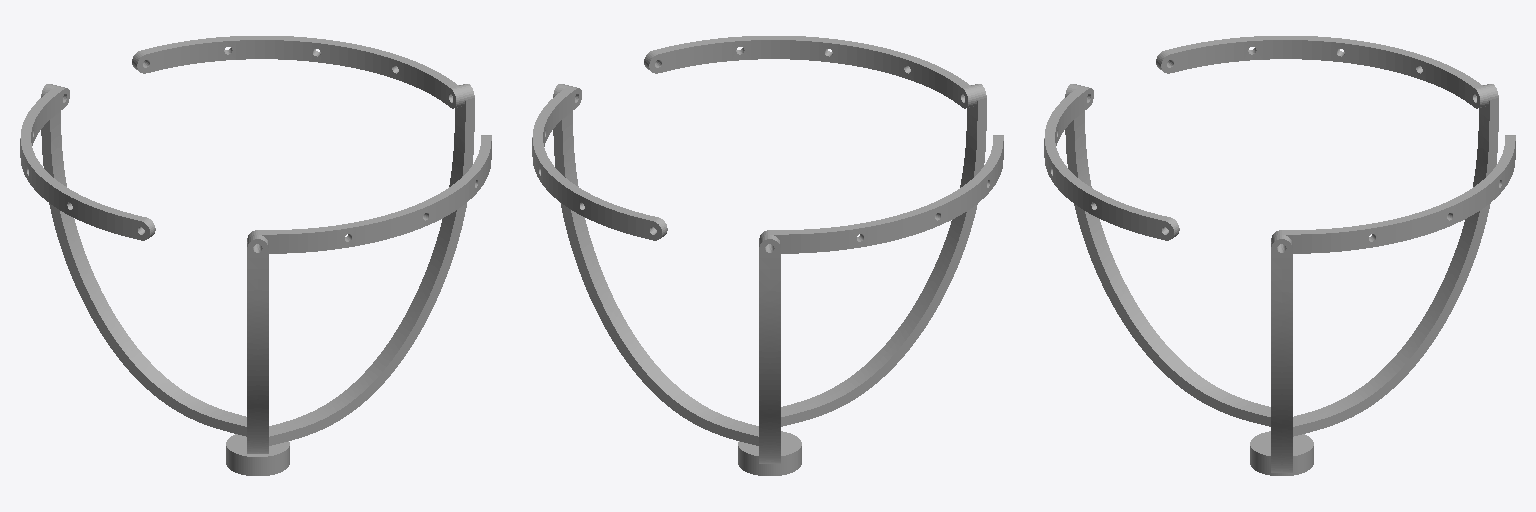
robot.urdf — parallel_manipulator:
<?xml version="1.0" ?>
<robot name="parallel_manipulator">

<mujoco>
 <compiler balanceinertia="true" discardvisual="false" meshdir="meshes" fusestatic="false"/>
</mujoco>

<material name="silver">
  <color rgba="0.700 0.700 0.700 1.000"/>
</material>

<link name="base_link">
  <inertial>
    <origin xyz="5.026061718855929e-18 0.0 -0.16000000000000003" rpy="0 0 0"/>
    <mass value="0.0554883802440297"/>
    <inertia ixx="3.583624557426321e-06" iyy="3.583624557426321e-06" izz="6.242442777453249e-06" ixy="0.0" iyz="2.091660178393795e-21" ixz="6.972200594645924e-22"/>
  </inertial>
  <visual>
    <origin xyz="0 0 0" rpy="0 0 0"/>
    <geometry>
      <mesh filename="meshes/base_link.stl" scale="0.001 0.001 0.001"/>
    </geometry>
    <material name="silver"/>
  </visual>
  <collision>
    <origin xyz="0 0 0" rpy="0 0 0"/>
    <geometry>
      <mesh filename="meshes/base_link.stl" scale="0.001 0.001 0.001"/>
    </geometry>
  </collision>
</link>

<link name="base11">
  <inertial>
    <origin xyz="0.07770643358085871 3.0322658174603484e-07 0.06024385622848319" rpy="0 0 0"/>
    <mass value="0.08674351614300567"/>
    <inertia ixx="0.00021167094510036208" iyy="0.0003141097173175293" izz="0.00010389479527303026" ixy="-9.152163667196695e-10" iyz="-2.4938792392235243e-09" ixz="-0.0001301534291036009"/>
  </inertial>
  <visual>
    <origin xyz="-0.0 -0.0 0.155" rpy="0 0 0"/>
    <geometry>
      <mesh filename="meshes/base11.stl" scale="0.001 0.001 0.001"/>
    </geometry>
    <material name="silver"/>
  </visual>
  <collision>
    <origin xyz="-0.0 -0.0 0.155" rpy="0 0 0"/>
    <geometry>
      <mesh filename="meshes/base11.stl" scale="0.001 0.001 0.001"/>
    </geometry>
  </collision>
</link>

<link name="base21">
  <inertial>
    <origin xyz="-0.03863393418963683 0.06691531907153667 0.05790924389468903" rpy="0 0 0"/>
    <mass value="0.08514522253227381"/>
    <inertia ixx="0.00026993000986479153" iyy="0.0002192885840932424" izz="0.00010271544678743677" ixy="4.385861472446938e-05" iyz="-0.00010739274184498333" ixz="6.200602713378632e-05"/>
  </inertial>
  <visual>
    <origin xyz="-0.0 -0.0 0.15" rpy="0 0 0"/>
    <geometry>
      <mesh filename="meshes/base21.stl" scale="0.001 0.001 0.001"/>
    </geometry>
    <material name="silver"/>
  </visual>
  <collision>
    <origin xyz="-0.0 -0.0 0.15" rpy="0 0 0"/>
    <geometry>
      <mesh filename="meshes/base21.stl" scale="0.001 0.001 0.001"/>
    </geometry>
  </collision>
</link>

<link name="base31">
  <inertial>
    <origin xyz="-0.03841038126169106 -0.06652936154357646 0.05558210977220143" rpy="0 0 0"/>
    <mass value="0.08354709335152774"/>
    <inertia ixx="0.0002523299000617631" iyy="0.00020227077725309148" izz="0.00010151774390270406" ixy="-4.335059504519329e-05" iyz="0.00010214693498486162" ixz="5.897184287090014e-05"/>
  </inertial>
  <visual>
    <origin xyz="-0.0 -0.0 0.145" rpy="0 0 0"/>
    <geometry>
      <mesh filename="meshes/base31.stl" scale="0.001 0.001 0.001"/>
    </geometry>
    <material name="silver"/>
  </visual>
  <collision>
    <origin xyz="-0.0 -0.0 0.145" rpy="0 0 0"/>
    <geometry>
      <mesh filename="meshes/base31.stl" scale="0.001 0.001 0.001"/>
    </geometry>
  </collision>
</link>

<link name="base_top1">
  <inertial>
    <origin xyz="-0.04131878844100827 0.0689319282604722 -4.945697337739286e-05" rpy="0 0 0"/>
    <mass value="0.06760520920400498"/>
    <inertia ixx="8.072621684546594e-05" iyy="8.115338367189903e-05" izz="0.00016072792841683608" ixy="7.233128143425066e-05" iyz="-2.129572243479971e-09" ixz="1.1992591402244904e-09"/>
  </inertial>
  <visual>
    <origin xyz="-0.11 4.2e-05 -4.9e-05" rpy="0 0 0"/>
    <geometry>
      <mesh filename="meshes/base_top1.stl" scale="0.001 0.001 0.001"/>
    </geometry>
    <material name="silver"/>
  </visual>
  <collision>
    <origin xyz="-0.11 4.2e-05 -4.9e-05" rpy="0 0 0"/>
    <geometry>
      <mesh filename="meshes/base_top1.stl" scale="0.001 0.001 0.001"/>
    </geometry>
  </collision>
</link>

<link name="base_top21">
  <inertial>
    <origin xyz="-0.03903703371795239 -0.0702492901574557 -4.945697337739699e-05" rpy="0 0 0"/>
    <mass value="0.06760520920400423"/>
    <inertia ixx="0.0001436873191756333" iyy="1.819228134173007e-05" izz="0.00016072792841683467" ixy="-3.598067205545254e-05" iyz="2.10337500289663e-09" ixz="1.2446340919535983e-09"/>
  </inertial>
  <visual>
    <origin xyz="0.054964 -0.095284 -4.9e-05" rpy="0 0 0"/>
    <geometry>
      <mesh filename="meshes/base_top21.stl" scale="0.001 0.001 0.001"/>
    </geometry>
    <material name="silver"/>
  </visual>
  <collision>
    <origin xyz="0.054964 -0.095284 -4.9e-05" rpy="0 0 0"/>
    <geometry>
      <mesh filename="meshes/base_top21.stl" scale="0.001 0.001 0.001"/>
    </geometry>
  </collision>
</link>

<link name="base_top31">
  <inertial>
    <origin xyz="0.08035582215896059 0.001317361896983657 -4.9456973377392864e-05" rpy="0 0 0"/>
    <mass value="0.0676052092040043"/>
    <inertia ixx="1.8405864754947538e-05" iyy="0.00014347373576241605" izz="0.0001607279284168349" ixy="-3.63506093787976e-05" iyz="2.6197240595179076e-11" ixz="-2.443893232161633e-09"/>
  </inertial>
  <visual>
    <origin xyz="0.055036 0.095242 -4.9e-05" rpy="0 0 0"/>
    <geometry>
      <mesh filename="meshes/base_top31.stl" scale="0.001 0.001 0.001"/>
    </geometry>
    <material name="silver"/>
  </visual>
  <collision>
    <origin xyz="0.055036 0.095242 -4.9e-05" rpy="0 0 0"/>
    <geometry>
      <mesh filename="meshes/base_top31.stl" scale="0.001 0.001 0.001"/>
    </geometry>
  </collision>
</link>

<joint name="Rigid_26" type="fixed">
  <origin xyz="0.0 0.0 -0.155" rpy="0 0 0"/>
  <parent link="base_link"/>
  <child link="base11"/>
</joint>

<joint name="Revolute_27" type="continuous">
  <origin xyz="0.0 0.0 0.005" rpy="0 0 0"/>
  <parent link="base11"/>
  <child link="base21"/>
  <axis xyz="0.0 0.0 -1.0"/>
</joint>
<transmission name="Revolute_27_tran">
  <type>transmission_interface/SimpleTransmission</type>
  <joint name="Revolute_27">
    <hardwareInterface>PositionJointInterface</hardwareInterface>
  </joint>
  <actuator name="Revolute_27_actr">
    <hardwareInterface>PositionJointInterface</hardwareInterface>
    <mechanicalReduction>1</mechanicalReduction>
  </actuator>
</transmission>

<joint name="Revolute_28" type="continuous">
  <origin xyz="0.0 0.0 0.005" rpy="0 0 0"/>
  <parent link="base21"/>
  <child link="base31"/>
  <axis xyz="0.0 0.0 -1.0"/>
</joint>
<transmission name="Revolute_28_tran">
  <type>transmission_interface/SimpleTransmission</type>
  <joint name="Revolute_28">
    <hardwareInterface>PositionJointInterface</hardwareInterface>
  </joint>
  <actuator name="Revolute_28_actr">
    <hardwareInterface>PositionJointInterface</hardwareInterface>
    <mechanicalReduction>1</mechanicalReduction>
  </actuator>
</transmission>

<joint name="Revolute_32" type="continuous">
  <origin xyz="0.11 -4.2e-05 0.155049" rpy="0 0 0"/>
  <parent link="base11"/>
  <child link="base_top1"/>
  <axis xyz="1.0 0.0 0.0"/>
</joint>
<transmission name="Revolute_32_tran">
  <type>transmission_interface/SimpleTransmission</type>
  <joint name="Revolute_32">
    <hardwareInterface>PositionJointInterface</hardwareInterface>
  </joint>
  <actuator name="Revolute_32_actr">
    <hardwareInterface>PositionJointInterface</hardwareInterface>
    <mechanicalReduction>1</mechanicalReduction>
  </actuator>
</transmission>

<joint name="Revolute_33" type="continuous">
  <origin xyz="-0.054964 0.095284 0.150049" rpy="0 0 0"/>
  <parent link="base21"/>
  <child link="base_top21"/>
  <axis xyz="-0.5 0.866025 0.0"/>
</joint>
<transmission name="Revolute_33_tran">
  <type>transmission_interface/SimpleTransmission</type>
  <joint name="Revolute_33">
    <hardwareInterface>PositionJointInterface</hardwareInterface>
  </joint>
  <actuator name="Revolute_33_actr">
    <hardwareInterface>PositionJointInterface</hardwareInterface>
    <mechanicalReduction>1</mechanicalReduction>
  </actuator>
</transmission>

<joint name="Revolute_34" type="continuous">
  <origin xyz="-0.055036 -0.095242 0.145049" rpy="0 0 0"/>
  <parent link="base31"/>
  <child link="base_top31"/>
  <axis xyz="-0.5 -0.866025 0.0"/>
</joint>
<transmission name="Revolute_34_tran">
  <type>transmission_interface/SimpleTransmission</type>
  <joint name="Revolute_34">
    <hardwareInterface>PositionJointInterface</hardwareInterface>
  </joint>
  <actuator name="Revolute_34_actr">
    <hardwareInterface>PositionJointInterface</hardwareInterface>
    <mechanicalReduction>1</mechanicalReduction>
  </actuator>
</transmission>

</robot>

--- Facts derived from the render (not from the file) ---
3 views of the same robot in one strip: view 1: azimuth 30°, elevation 25°; view 2: azimuth 150°, elevation 25°; view 3: azimuth 270°, elevation 25° (orthographic).
Model parallel_manipulator with 7 links and 6 joints (5 continuous, 1 fixed), rooted at base_link, posed every joint at zero.
Links seen in each view (by area): view 1: base11, base_top1, base21, base_top31, base_top21, base31, base_link; view 2: base_top31, base11, base31, base_top21, base21, base_top1, base_link; view 3: base21, base_top21, base31, base_top1, base11, base_top31, base_link.
Boxes of the visible links, <box> form: base11: <box>269,84,474,445</box>; base_top1: <box>132,36,465,108</box>; base21: <box>41,84,246,436</box>; base_top31: <box>247,135,491,253</box>; base_top21: <box>20,86,155,240</box>; base31: <box>247,235,268,453</box>; base_link: <box>226,434,289,475</box>; base_top31: <box>644,36,977,108</box>; base11: <box>553,84,758,445</box>; base31: <box>781,84,986,426</box>; base_top21: <box>759,135,1003,253</box>; base21: <box>759,235,780,463</box>; base_top1: <box>532,86,667,240</box>; base_link: <box>738,431,801,475</box>; base21: <box>1293,84,1498,436</box>; base_top21: <box>1156,36,1489,108</box>; base31: <box>1065,84,1270,426</box>; base_top1: <box>1271,135,1515,253</box>; base11: <box>1271,235,1292,472</box>; base_top31: <box>1044,86,1179,240</box>; base_link: <box>1250,431,1313,475</box>.
Bounding box of the posed robot: 0.2268 × 0.2218 × 0.17 m (x, y, z).
7 mesh visuals loaded from 7 distinct referenced files (7 binary STL).